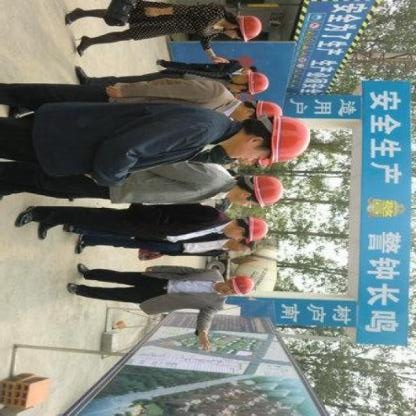red: (264, 112, 316, 164), (250, 170, 286, 208), (237, 11, 263, 44), (241, 69, 271, 97), (244, 212, 273, 239), (232, 272, 258, 296), (255, 98, 286, 118)
